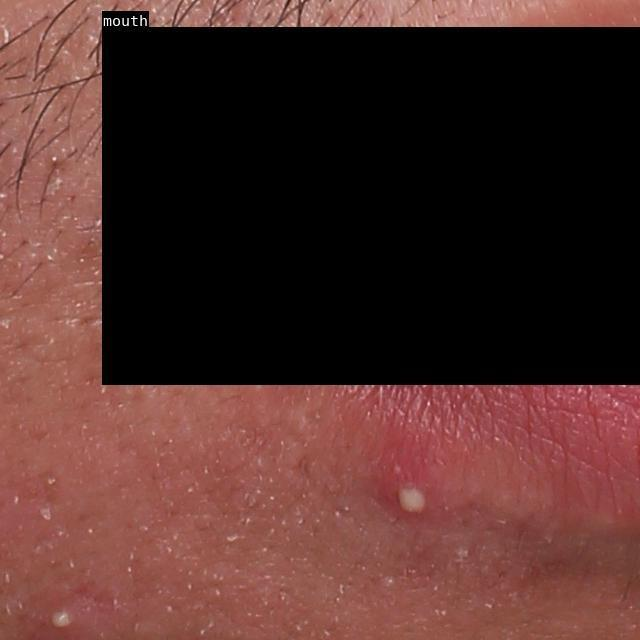pustule: (383, 451, 448, 520), (44, 601, 89, 633)
